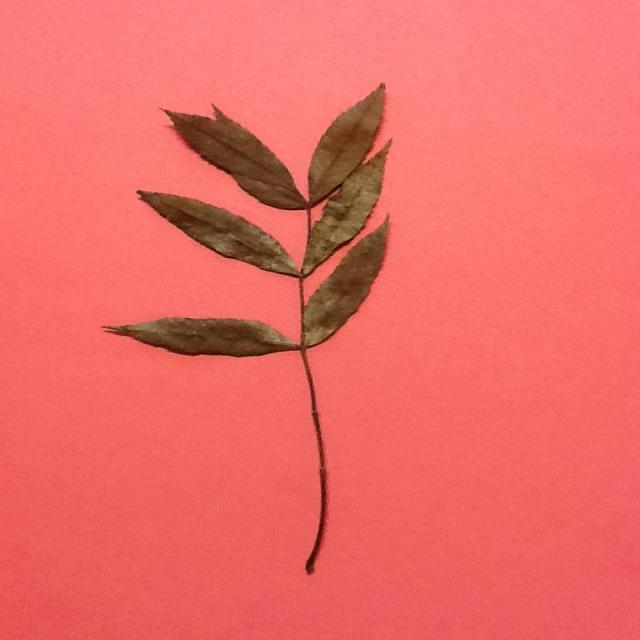foliage: (164, 102, 312, 214), (140, 190, 302, 278), (304, 212, 391, 364), (306, 136, 392, 276), (306, 84, 390, 210), (108, 317, 304, 359)
